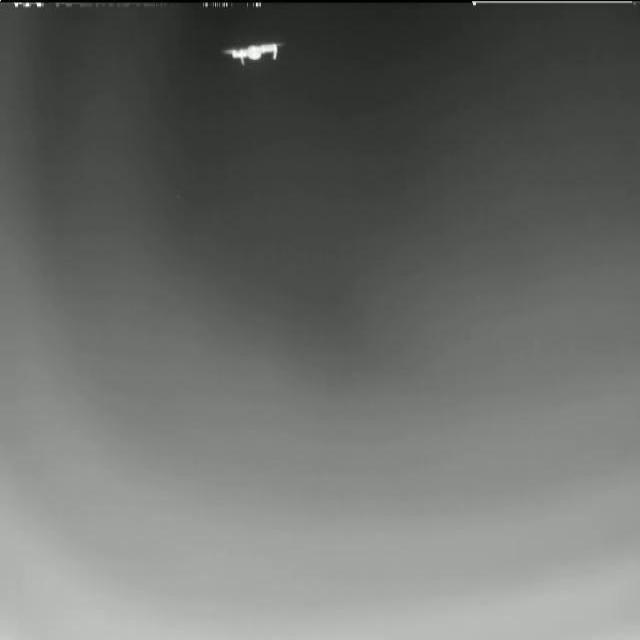DRONE: (219, 37, 289, 66)
